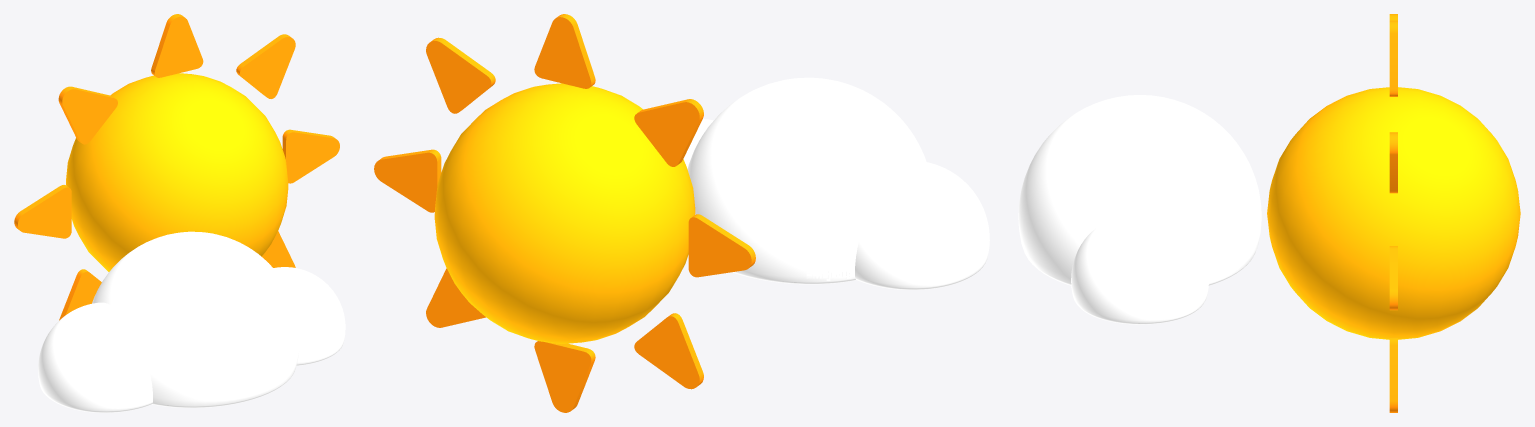
The model's file is sun_behind_small_cloud.glb.
The picture shows the model from 3 angles, left to right: view 1: azimuth 30°, elevation 25°; view 2: azimuth 150°, elevation 25°; view 3: azimuth 270°, elevation 25°; orthographic projection. The views are drawn at different scales.
Visible parts, largest first — view 1: Cube.202; view 2: Cube.202; view 3: Cube.202.
Boxes of the visible parts, <box> form: Cube.202: <box>14,14,345,412</box>; Cube.202: <box>374,14,989,412</box>; Cube.202: <box>1018,14,1520,412</box>.
Bounding box in the file's own units: 2.5 × 2 × 2.37.
Materials: 1 (1 with a texture image).
